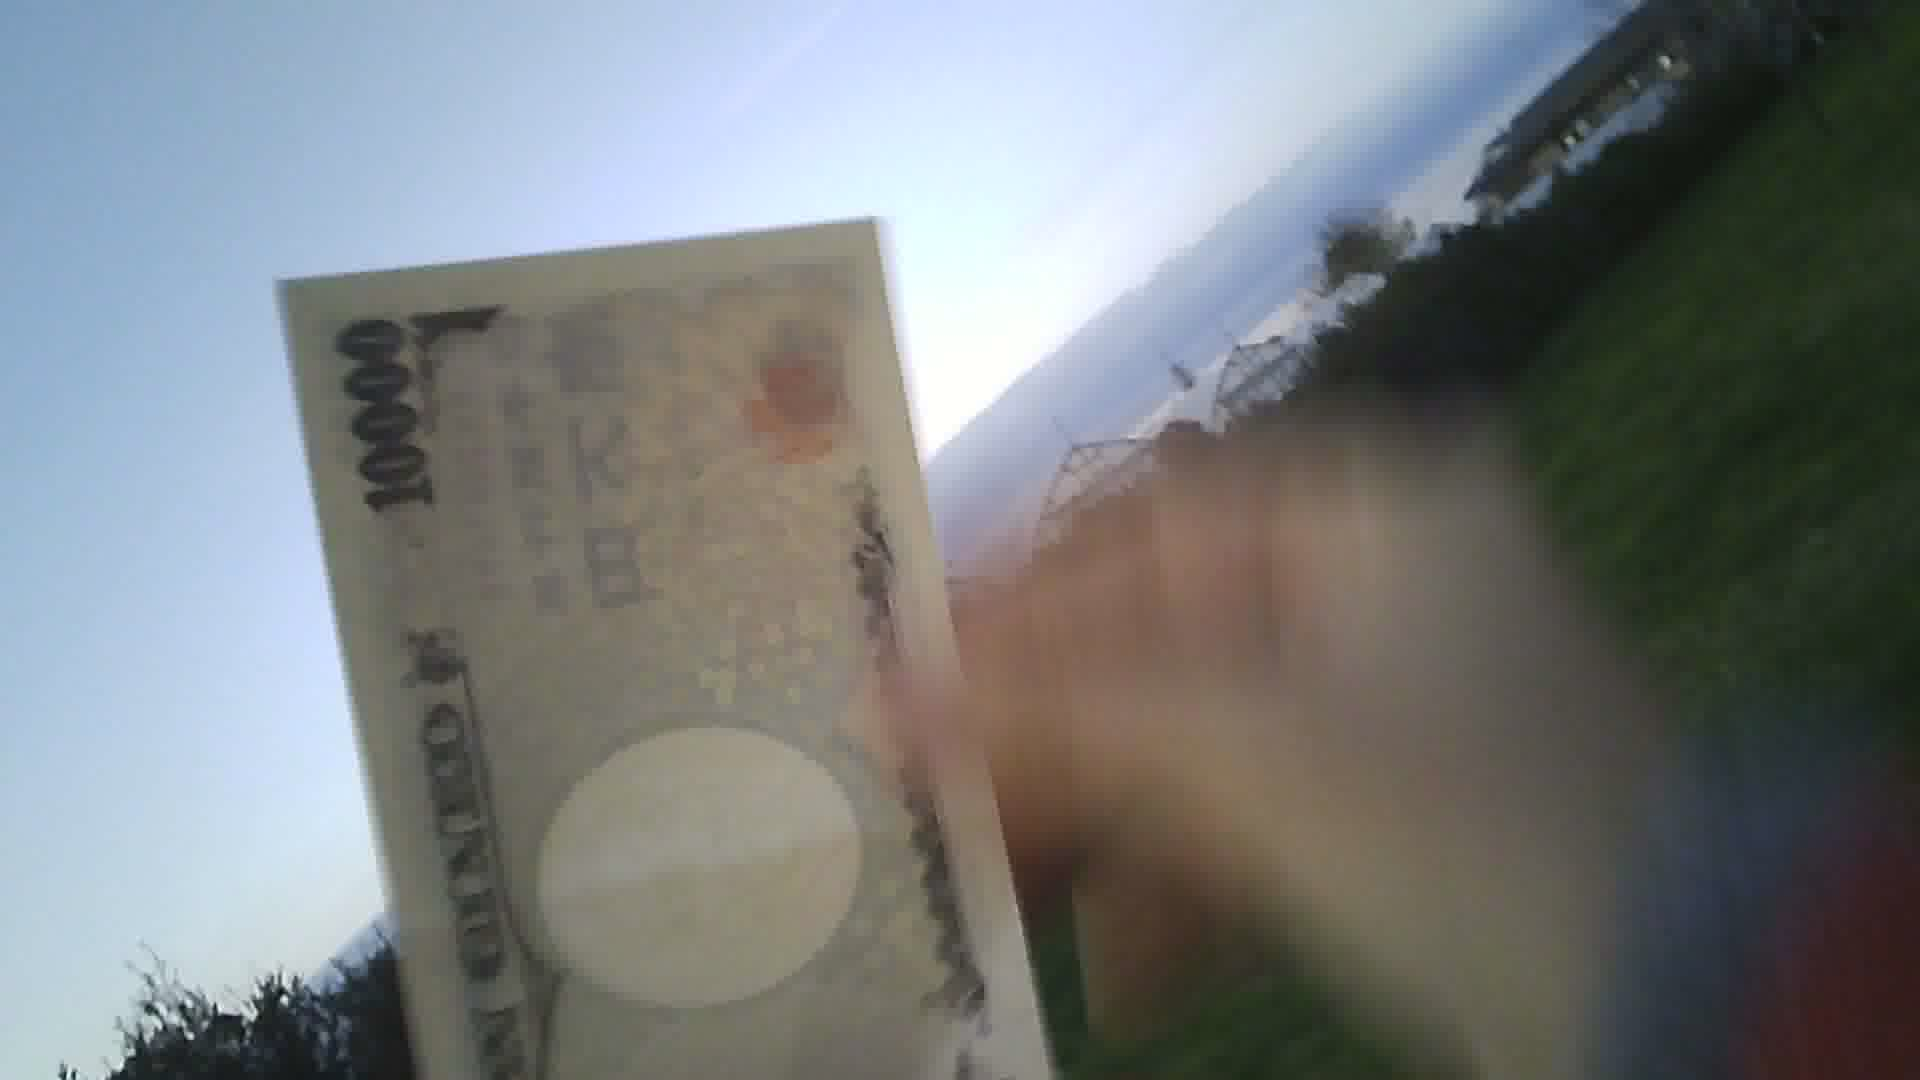10,000 Yen: (262, 189, 1065, 1079)
